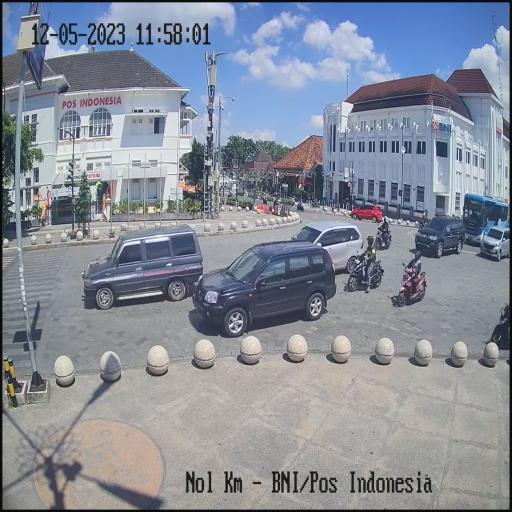mobil: (193, 238, 337, 334), (82, 224, 204, 314), (291, 218, 365, 275), (462, 194, 510, 247), (415, 212, 466, 258), (480, 218, 510, 264)
motor: (348, 249, 384, 294), (396, 260, 429, 308), (373, 222, 392, 251)
